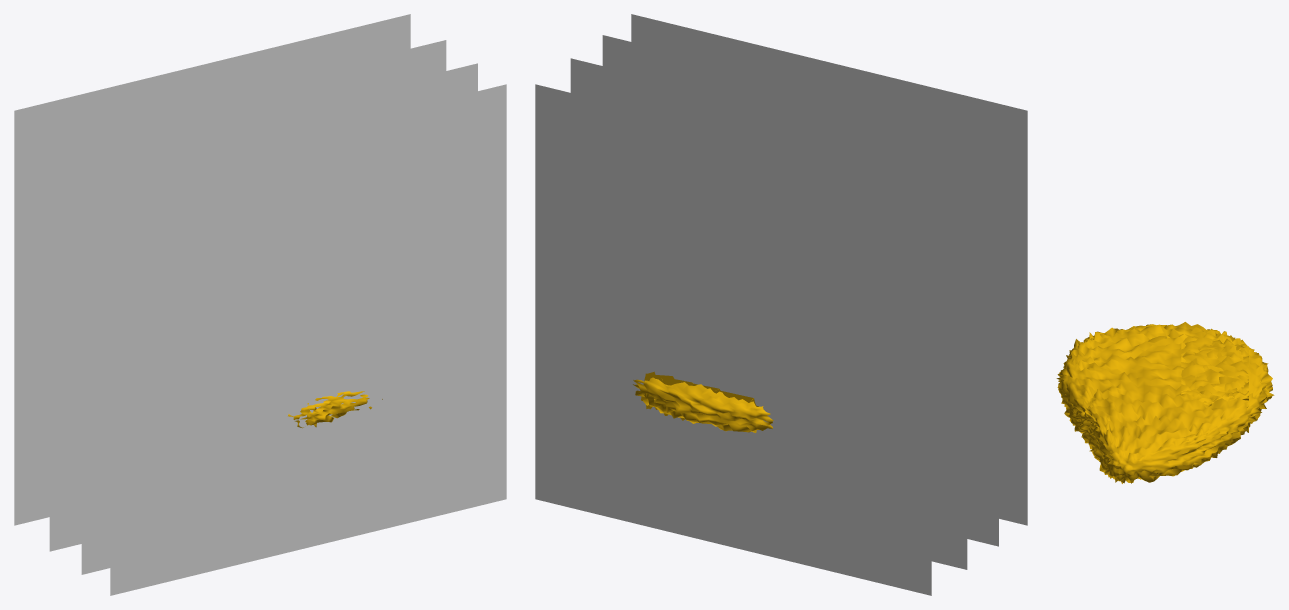
File: 切ったカツ４.fbx
3 renders of one model, left to right at view 1: azimuth 30°, elevation 25°; view 2: azimuth 150°, elevation 25°; view 3: azimuth 270°, elevation 25°, orthographic. The views are drawn at different scales.
Visible parts, largest first — view 1: 平面.002, 平面.005, 平面.004, 平面.003, 平面; view 2: 平面.005, 平面.004, 平面.003, 平面.002, 平面; view 3: 平面, 平面.001.
Part boxes in pixels (bbox=[...]): 平面.002: bbox=[110, 84, 506, 595]; 平面.005: bbox=[14, 14, 410, 525]; 平面.004: bbox=[49, 40, 446, 551]; 平面.003: bbox=[81, 63, 477, 574]; 平面: bbox=[288, 391, 382, 428]; 平面.005: bbox=[535, 84, 931, 595]; 平面.004: bbox=[570, 58, 967, 569]; 平面.003: bbox=[602, 35, 998, 546]; 平面.002: bbox=[631, 14, 1027, 525]; 平面: bbox=[633, 377, 773, 432]; 平面: bbox=[1056, 322, 1274, 483]; 平面.001: bbox=[1181, 335, 1248, 432].
Size of the model in its own units: 418 by 400 by 200.
